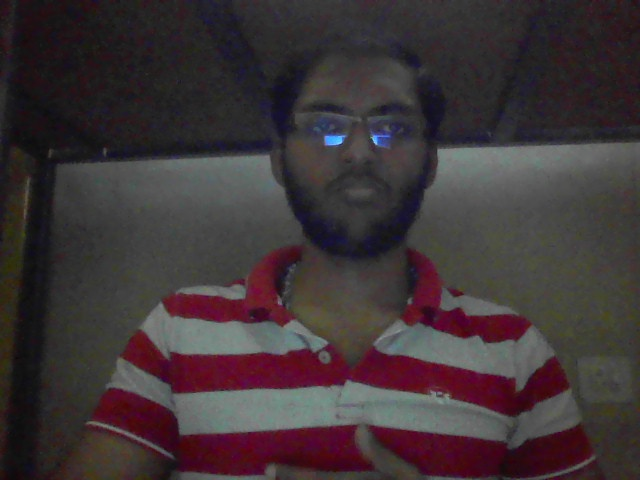Yes_Hungry: (205, 423, 516, 480)
